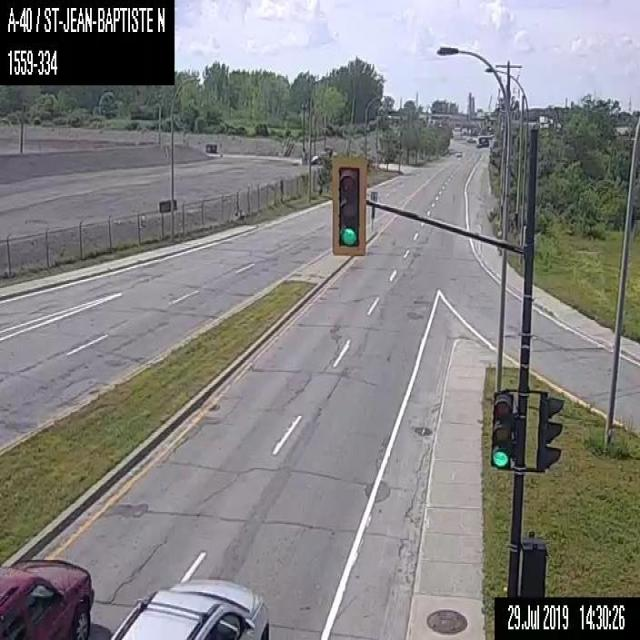vehicle: (109, 573, 268, 639), (0, 556, 95, 639)
